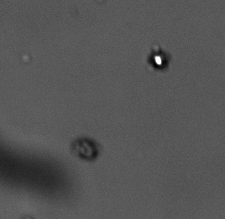Dead Cell: (75, 138, 98, 160)
Living Cell: (149, 51, 169, 70)
